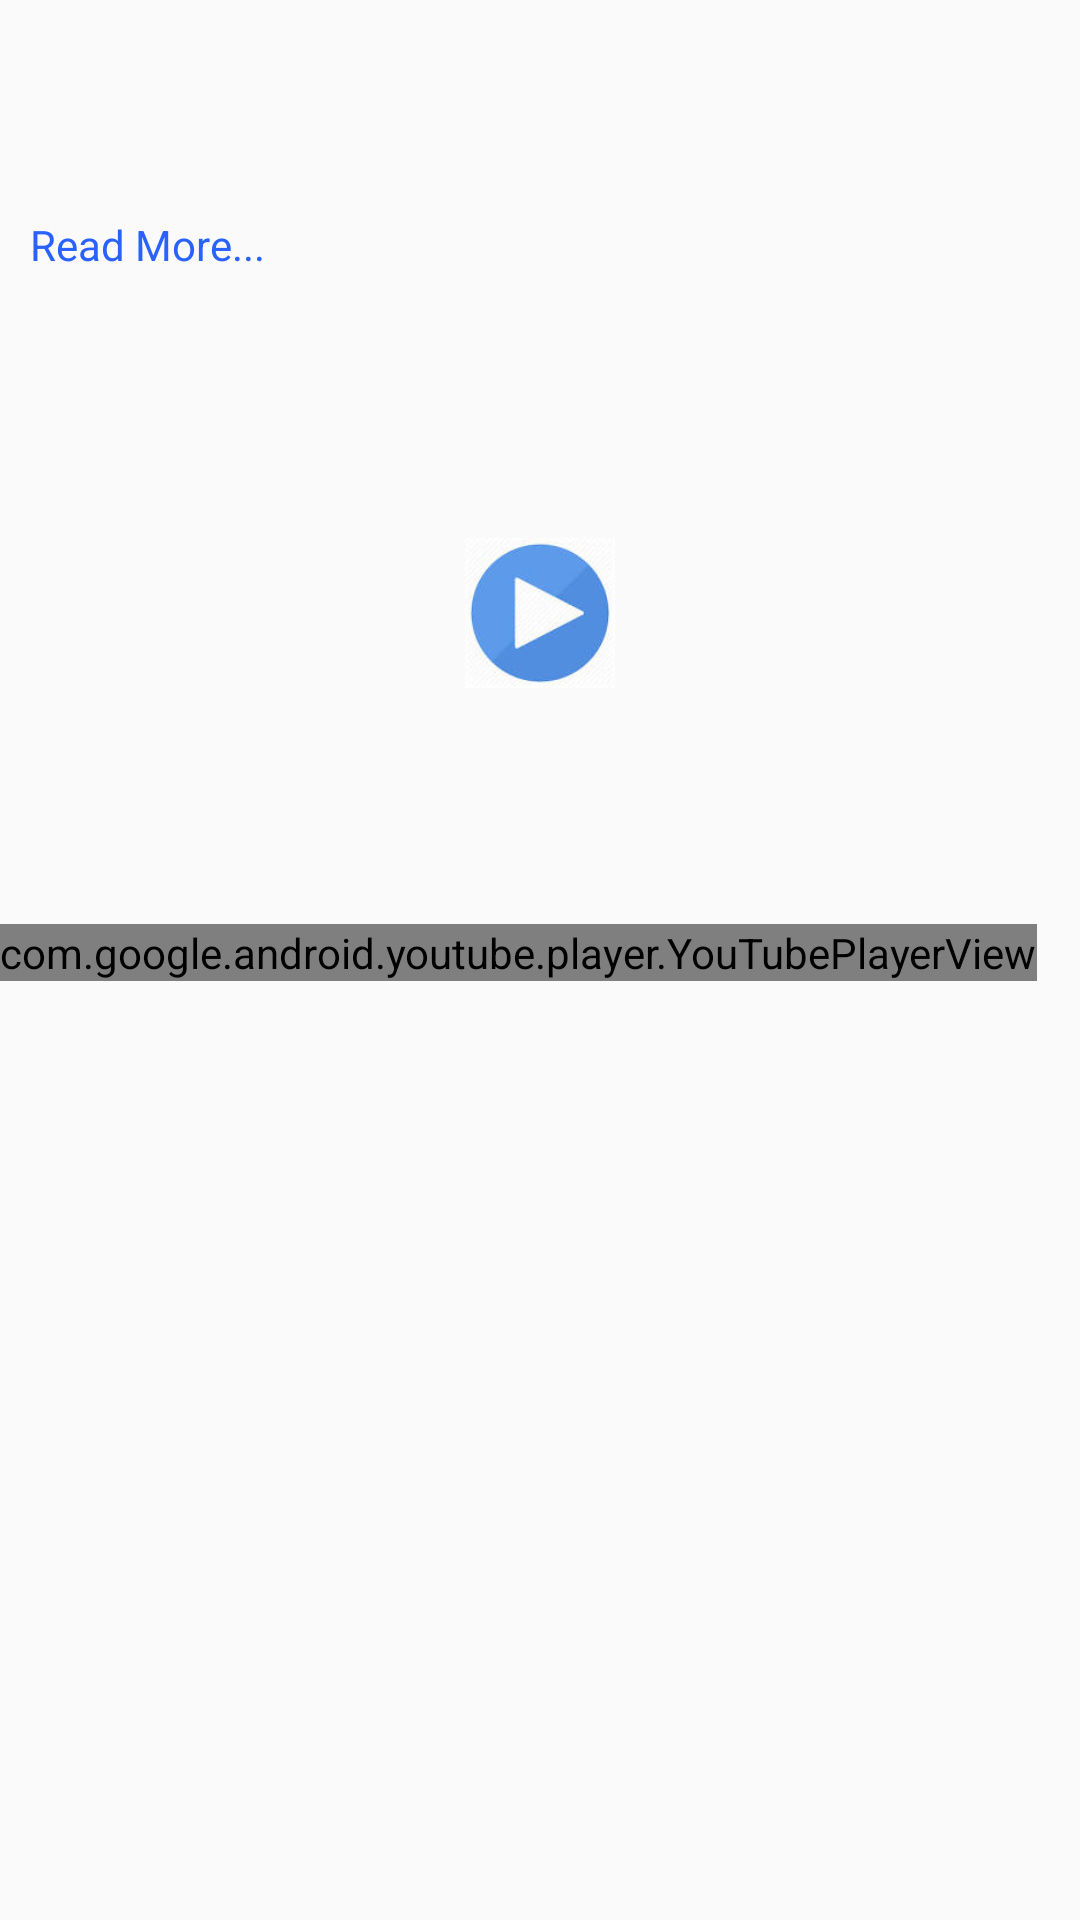

Icon bounding boxes for this 1080px x 1920px phone screenshot, format bbox=[x1, y1, x2, y2]:
play: bbox=[470, 543, 610, 683]
